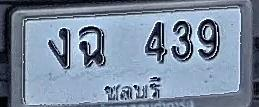3: (171, 20, 193, 61)
4: (144, 21, 166, 63)
9: (197, 18, 220, 60)
A07: (48, 27, 71, 69)
A09: (79, 26, 106, 67)
CBI: (99, 74, 164, 101)
